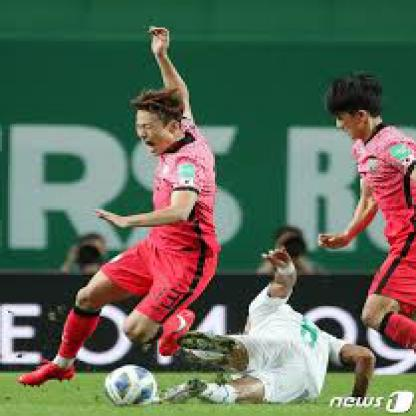Fall_Down: (166, 249, 380, 407)
